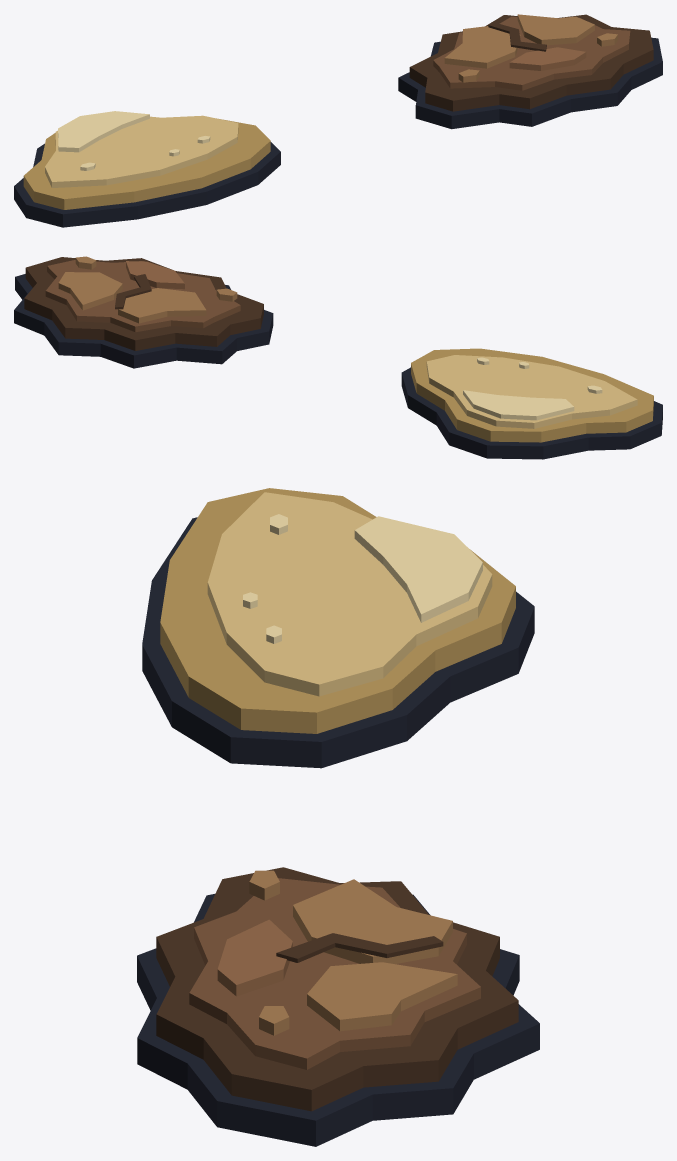
File: areia-e-terra.fbx
3 renders of one model, top to bottom at view 1: azimuth 30°, elevation 25°; view 2: azimuth 150°, elevation 25°; view 3: azimuth 270°, elevation 25°, orthographic. The views are drawn at different scales.
Parts seen in each view (by area): view 1: sand, ground; view 2: sand, ground; view 3: sand, ground.
Boxes of the visible parts, x1=… form: sand: x1=14, y1=111, x2=280, y2=227; ground: x1=398, y1=14, x2=662, y2=129; sand: x1=401, y1=348, x2=662, y2=459; ground: x1=14, y1=256, x2=273, y2=368; sand: x1=142, y1=488, x2=534, y2=768; ground: x1=137, y1=867, x2=539, y2=1146.
Size of the model in its own units: 2.78 by 0.16 by 0.7649.
Materials: 1 (1 with a texture image).
